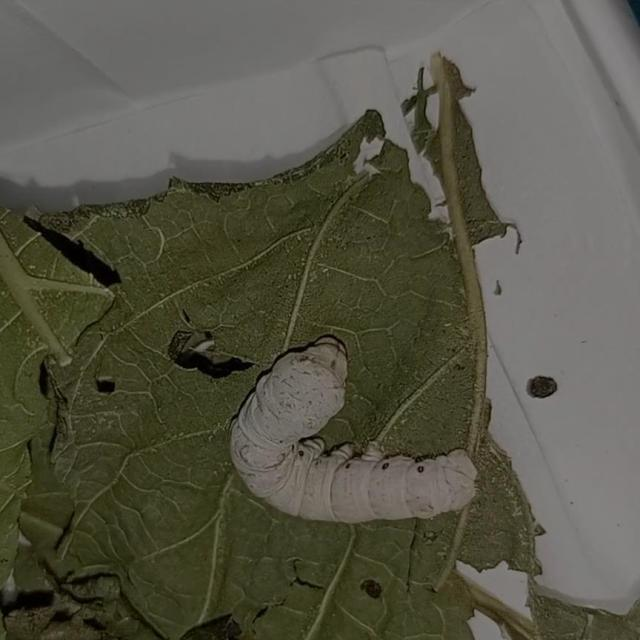Healthy: (194, 313, 503, 540)
